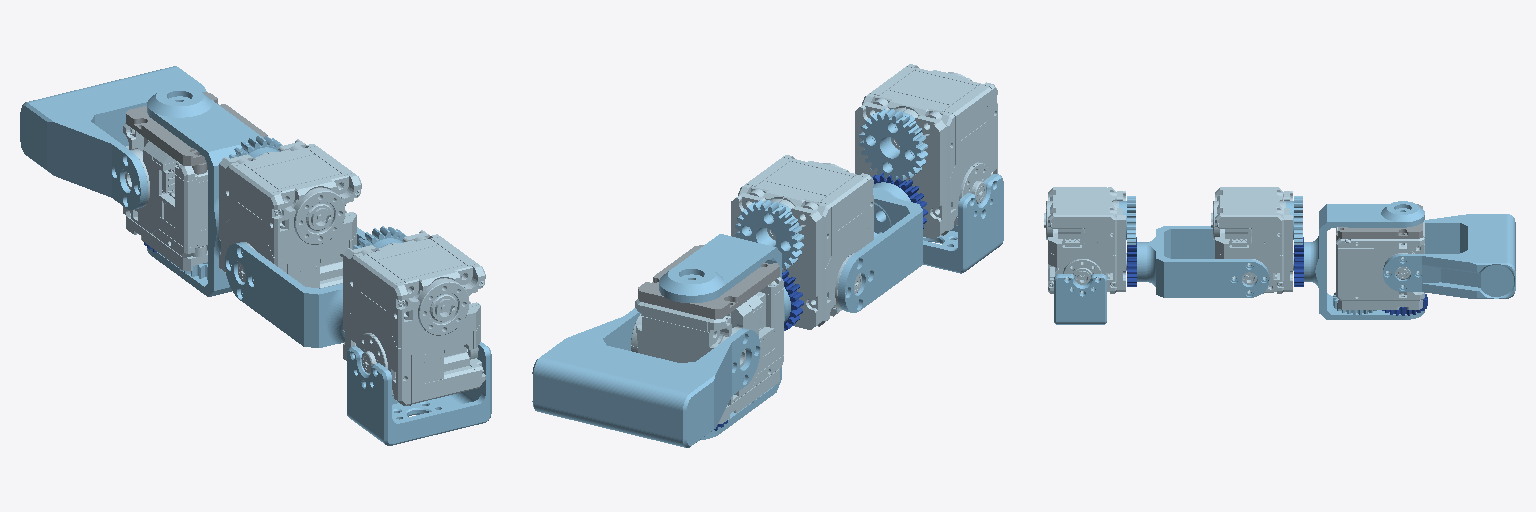
The robot description file, URDF, robot "left_arm_hand":
<?xml version="1.0" ?><robot name="left_arm_hand">  
  <link name="sho_pitch_link">    
    <visual>      
      <origin xyz="0 0 0" rpy="0 -0 0"/>      
      <geometry>        
        <mesh filename="package:///meshes/left_sho_pitch_link_visual.stl"/>        
      </geometry>      
      <material name="sho_pitch_link_material">        
        <color rgba="0.61568627450980395466 0.81176470588235294379 0.9294117647058824927 1.0"/>        
      </material>      
    </visual>    
    <collision>      
      <origin xyz="0 0 0" rpy="0 -0 0"/>      
      <geometry>        
        <mesh filename="package:///meshes/left_sho_pitch_link_collision.stl"/>        
      </geometry>      
    </collision>    
    <inertial>      
      <origin xyz="5.8254248046275251526e-11 -5.126464256112093186e-05 0.008244078812709491888" rpy="0 0 0"/>      
      <mass value="0.0085999999999999930667"/>      
      <inertia ixx="1.227288704054578552e-06" ixy="-2.142994420544767514e-14" ixz="-8.5847198719137675016e-15" iyy="2.9107306060364611617e-06" iyz="7.4623841398182852399e-09" izz="3.0803135950773479222e-06"/>      
    </inertial>    
  </link>  

  <link name="2xl430_gears">    
    <visual>      
      <origin xyz="0 0 0" rpy="0 -0 0"/>      
      <geometry>        
        <mesh filename="package:///meshes/left_2xl430_gears_visual.stl"/>        
      </geometry>      
      <material name="2xl430_gears_material">        
        <color rgba="0.75605985687944088358 0.8580469596269301169 0.91320266199377453376 1.0"/>        
      </material>      
    </visual>    
    <collision>      
      <origin xyz="0 0 0" rpy="0 -0 0"/>      
      <geometry>        
        <mesh filename="package:///meshes/left_2xl430_gears_collision.stl"/>        
      </geometry>      
    </collision>    
    <inertial>      
      <origin xyz="-0.01159315502192694719 -0.0024238821558102449476 -0.018551095523800655712" rpy="0 0 0"/>      
      <mass value="0.11800003674524907338"/>      
      <inertia ixx="2.7511554932656489224e-05" ixy="8.9994756794952501633e-07" ixz="-2.3362914879652266661e-08" iyy="3.2796647067985424697e-05" iyz="-6.5715261571464750903e-07" izz="3.5775886684226105639e-05"/>      
    </inertial>    
  </link>  

  <link name="spur_1m_24t_drive">    
    <visual>      
      <origin xyz="0 0 0" rpy="0 -0 0"/>      
      <geometry>        
        <mesh filename="package:///meshes/left_spur_1m_24t_drive_visual.stl"/>        
      </geometry>      
      <material name="spur_1m_24t_drive_material">        
        <color rgba="0.61568627450980406568 0.81176470588235294379 0.92941176470588238168 1.0"/>        
      </material>      
    </visual>    
    <collision>      
      <origin xyz="0 0 0" rpy="0 -0 0"/>      
      <geometry>        
        <mesh filename="package:///meshes/left_spur_1m_24t_drive_collision.stl"/>        
      </geometry>      
    </collision>    
    <inertial>      
      <origin xyz="-7.7589486935297973933e-15 -1.2117261756637246574e-16 0.0047949116178401416863" rpy="0 0 0"/>      
      <mass value="0.0032000000000000001533"/>      
      <inertia ixx="1.4019331346159887702e-07" ixy="1.6002409955622246819e-15" ixz="-1.6238956637125511228e-36" iyy="1.4019331260388786185e-07" iyz="2.7687586474031122229e-36" izz="2.3838919844264060647e-07"/>      
    </inertial>    
  </link>  

  <joint name="left_sho_yaw_drive" type="revolute">    
    <origin xyz="-0.024000000716141011575 -0.01900000015245061416 -0.019000000152443286688" rpy="1.5707963267948328312 -1.2486577482345307449e-15 8.257939689134084871e-14"/>    
    <parent link="2xl430_gears"/>    
    <child link="spur_1m_24t_drive"/>    
    <axis xyz="0 0 1"/>    
    <limit effort="1" velocity="20" lower="-2.6179938779914944114" upper="2.6179938779914944114"/>    
    <joint_properties friction="0.0"/>    
  </joint>  

  <link name="spur_1m_24t_driven">    
    <visual>      
      <origin xyz="0 0 0" rpy="0 -0 0"/>      
      <geometry>        
        <mesh filename="package:///meshes/left_spur_1m_24t_driven_visual.stl"/>        
      </geometry>      
      <material name="spur_1m_24t_driven_material">        
        <color rgba="0.23137254901960788156 0.38039215686274502337 0.7058823529411765163 1.0"/>        
      </material>      
    </visual>    
    <collision>      
      <origin xyz="0 0 0" rpy="0 -0 0"/>      
      <geometry>        
        <mesh filename="package:///meshes/left_spur_1m_24t_driven_collision.stl"/>        
      </geometry>      
    </collision>    
    <inertial>      
      <origin xyz="2.4368008297630226887e-18 -5.8053882331981886161e-15 -0.00097054817521927832808" rpy="0 0 0"/>      
      <mass value="0.0026999999999999997093"/>      
      <inertia ixx="1.2036234079571063062e-07" ixy="5.6376054914688019889e-37" ixz="-8.0895196499276282042e-37" iyy="1.203623407957104718e-07" iyz="-2.2046503577944615347e-37" izz="2.2847261745924530022e-07"/>      
    </inertial>    
  </link>  

  <link name="sho_yaw_link">    
    <visual>      
      <origin xyz="0 0 0" rpy="0 -0 0"/>      
      <geometry>        
        <mesh filename="package:///meshes/left_sho_yaw_link_visual.stl"/>        
      </geometry>      
      <material name="sho_yaw_link_material">        
        <color rgba="0.61568627450980395466 0.81176470588235294379 0.92941176470588238168 1.0"/>        
      </material>      
    </visual>    
    <collision>      
      <origin xyz="0 0 0" rpy="0 -0 0"/>      
      <geometry>        
        <mesh filename="package:///meshes/left_sho_yaw_link_collision.stl"/>        
      </geometry>      
    </collision>    
    <inertial>      
      <origin xyz="-1.2817564279971509767e-18 2.3540653012769734895e-18 -0.024303257848520151696" rpy="0 0 0"/>      
      <mass value="0.014500000000000011144"/>      
      <inertia ixx="9.0846670053041365841e-06" ixy="3.622409280640416356e-13" ixz="7.0099077853007871479e-43" iyy="5.6910950712097525028e-06" iyz="3.7895817404622178758e-36" izz="4.4819609845548975929e-06"/>      
    </inertial>    
  </link>  

  <link name="2xl430_gears_2">    
    <visual>      
      <origin xyz="0 0 0" rpy="0 -0 0"/>      
      <geometry>        
        <mesh filename="package:///meshes/left_2xl430_gears_2_visual.stl"/>        
      </geometry>      
      <material name="2xl430_gears_2_material">        
        <color rgba="0.75605985687944088358 0.8580469596269301169 0.91320266199377453376 1.0"/>        
      </material>      
    </visual>    
    <collision>      
      <origin xyz="0 0 0" rpy="0 -0 0"/>      
      <geometry>        
        <mesh filename="package:///meshes/left_2xl430_gears_2_collision.stl"/>        
      </geometry>      
    </collision>    
    <inertial>      
      <origin xyz="-0.011593155021923011103 -0.0024238821558094265918 -0.018551095523809998933" rpy="0 0 0"/>      
      <mass value="0.11800003674524907338"/>      
      <inertia ixx="2.7511554932656821261e-05" ixy="8.9994756795314872916e-07" ixz="-2.3362914881072535773e-08" iyy="3.2796647067987166196e-05" iyz="-6.5715261571836799537e-07" izz="3.5775886684226451229e-05"/>      
    </inertial>    
  </link>  

  <link name="spur_1m_24t_drive_2">    
    <visual>      
      <origin xyz="0 0 0" rpy="0 -0 0"/>      
      <geometry>        
        <mesh filename="package:///meshes/left_spur_1m_24t_drive_2_visual.stl"/>        
      </geometry>      
      <material name="spur_1m_24t_drive_2_material">        
        <color rgba="0.61568627450980406568 0.81176470588235294379 0.92941176470588238168 1.0"/>        
      </material>      
    </visual>    
    <collision>      
      <origin xyz="0 0 0" rpy="0 -0 0"/>      
      <geometry>        
        <mesh filename="package:///meshes/left_spur_1m_24t_drive_2_collision.stl"/>        
      </geometry>      
    </collision>    
    <inertial>      
      <origin xyz="-7.7520097996258901649e-15 -1.2117261754052326881e-16 0.0047949116178401382168" rpy="0 0 0"/>      
      <mass value="0.0032000000000000001533"/>      
      <inertia ixx="1.4019331346159887702e-07" ixy="1.6002410021513630837e-15" ixz="-1.7607335968947653028e-37" iyy="1.4019331260388786185e-07" iyz="-1.8747184623252096922e-36" izz="2.3838919844264060647e-07"/>      
    </inertial>    
  </link>  

  <joint name="left_elbow_yaw_drive" type="revolute">    
    <origin xyz="-0.024000000716137528251 -0.0190000001524475437 -0.019000000152459547986" rpy="1.570796326795050879 -2.46739603138074785e-13 -6.062193916416980129e-14"/>    
    <parent link="2xl430_gears_2"/>    
    <child link="spur_1m_24t_drive_2"/>    
    <axis xyz="0 0 1"/>    
    <limit effort="1" velocity="20" lower="-2.6179938779914944114" upper="2.6179938779914944114"/>    
    <joint_properties friction="0.0"/>    
  </joint>  

  <link name="spur_1m_24t_driven_2">    
    <visual>      
      <origin xyz="0 0 0" rpy="0 -0 0"/>      
      <geometry>        
        <mesh filename="package:///meshes/left_spur_1m_24t_driven_2_visual.stl"/>        
      </geometry>      
      <material name="spur_1m_24t_driven_2_material">        
        <color rgba="0.23137254901960788156 0.38039215686274502337 0.7058823529411765163 1.0"/>        
      </material>      
    </visual>    
    <collision>      
      <origin xyz="0 0 0" rpy="0 -0 0"/>      
      <geometry>        
        <mesh filename="package:///meshes/left_spur_1m_24t_driven_2_collision.stl"/>        
      </geometry>      
    </collision>    
    <inertial>      
      <origin xyz="2.4368008297630893259e-18 -5.8056270393240221048e-15 -0.00097054817521927117235" rpy="0 0 0"/>      
      <mass value="0.0026999999999999997093"/>      
      <inertia ixx="1.2036234079571063062e-07" ixy="1.5191863218340771746e-36" ixz="2.768753003542779552e-37" iyy="1.203623407957104718e-07" iyz="-1.1902129569651006368e-37" izz="2.2847261745924530022e-07"/>      
    </inertial>    
  </link>  

  <link name="elb_yaw_link">    
    <visual>      
      <origin xyz="0 0 0" rpy="0 -0 0"/>      
      <geometry>        
        <mesh filename="package:///meshes/left_elb_yaw_link_visual.stl"/>        
      </geometry>      
      <material name="elb_yaw_link_material">        
        <color rgba="0.61568627450980395466 0.81176470588235294379 0.9294117647058824927 1.0"/>        
      </material>      
    </visual>    
    <collision>      
      <origin xyz="0 0 0" rpy="0 -0 0"/>      
      <geometry>        
        <mesh filename="package:///meshes/left_elb_yaw_link_collision.stl"/>        
      </geometry>      
    </collision>    
    <inertial>      
      <origin xyz="5.3127688027307578707e-08 0.0019833638641961670243 -0.023416643551549955887" rpy="0 0 0"/>      
      <mass value="0.017499999999999998196"/>      
      <inertia ixx="1.4134344903109192999e-05" ixy="1.6945783921971547142e-12" ixz="-1.1286398721902334746e-11" iyy="6.6435900776211298052e-06" iyz="1.0545227077253051227e-06" izz="8.9925290757998959832e-06"/>      
    </inertial>    
  </link>  

  <link name="spur_1m_24t_driven_3">    
    <visual>      
      <origin xyz="0 0 0" rpy="0 -0 0"/>      
      <geometry>        
        <mesh filename="package:///meshes/left_spur_1m_24t_driven_3_visual.stl"/>        
      </geometry>      
      <material name="spur_1m_24t_driven_3_material">        
        <color rgba="0.23137254901960788156 0.38039215686274502337 0.7058823529411765163 1.0"/>        
      </material>      
    </visual>    
    <collision>      
      <origin xyz="0 0 0" rpy="0 -0 0"/>      
      <geometry>        
        <mesh filename="package:///meshes/left_spur_1m_24t_driven_3_collision.stl"/>        
      </geometry>      
    </collision>    
    <inertial>      
      <origin xyz="2.436800829762470332e-18 -5.8053882331981894049e-15 -0.0025705481752192754774" rpy="0 0 0"/>      
      <mass value="0.0026999999999999997093"/>      
      <inertia ixx="1.2036234079571068356e-07" ixy="3.6684824624552442017e-37" ixz="-4.4245178596109447273e-36" iyy="1.203623407957104718e-07" iyz="7.8837735415592731373e-38" izz="2.284726174592454061e-07"/>      
    </inertial>    
  </link>  

  <link name="2xl430_gears_3">    
    <visual>      
      <origin xyz="0 0 0" rpy="0 -0 0"/>      
      <geometry>        
        <mesh filename="package:///meshes/left_2xl430_gears_3_visual.stl"/>        
      </geometry>      
      <material name="2xl430_gears_3_material">        
        <color rgba="0.75605985687944088358 0.8580469596269301169 0.91320266199377453376 1.0"/>        
      </material>      
    </visual>    
    <collision>      
      <origin xyz="0 0 0" rpy="0 -0 0"/>      
      <geometry>        
        <mesh filename="package:///meshes/left_2xl430_gears_3_collision.stl"/>        
      </geometry>      
    </collision>    
    <inertial>      
      <origin xyz="0.00044890447620269448856 0.011593154663842732133 -0.024576117996641427127" rpy="0 0 0"/>      
      <mass value="0.11800003674524907338"/>      
      <inertia ixx="3.5775886684225577091e-05" ixy="2.3362914879862866845e-08" ixz="6.5715261571689161694e-07" iyy="2.7511554932657559874e-05" iyz="8.9994756795285110296e-07" izz="3.2796647067985024897e-05"/>      
    </inertial>    
  </link>  

  <link name="spur_1m_24t_drive_3">    
    <visual>      
      <origin xyz="0 0 0" rpy="0 -0 0"/>      
      <geometry>        
        <mesh filename="package:///meshes/left_spur_1m_24t_drive_3_visual.stl"/>        
      </geometry>      
      <material name="spur_1m_24t_drive_3_material">        
        <color rgba="0.61568627450980406568 0.81176470588235294379 0.92941176470588238168 1.0"/>        
      </material>      
    </visual>    
    <collision>      
      <origin xyz="0 0 0" rpy="0 -0 0"/>      
      <geometry>        
        <mesh filename="package:///meshes/left_spur_1m_24t_drive_3_collision.stl"/>        
      </geometry>      
    </collision>    
    <inertial>      
      <origin xyz="-7.7520097996258901649e-15 -1.2117261756637226852e-16 0.004794911617840143421" rpy="0 0 0"/>      
      <mass value="0.0032000000000000001533"/>      
      <inertia ixx="1.4019331346159887702e-07" ixy="1.6002409948077748754e-15" ixz="-1.8672824434712963777e-36" iyy="1.4019331260388780891e-07" iyz="-6.0506048324817462433e-37" izz="2.3838919844264060647e-07"/>      
    </inertial>    
  </link>  

  <joint name="left_wrist_pitch_drive" type="revolute">    
    <origin xyz="-1.5244060454932558359e-10 0.024000000358057327343 -0.0080000000000068835493" rpy="4.57965832526558921e-14 -2.10309717636365493e-13 -1.5707963267949176522"/>    
    <parent link="2xl430_gears_3"/>    
    <child link="spur_1m_24t_drive_3"/>    
    <axis xyz="0 0 1"/>    
    <limit effort="1" velocity="20" lower="-1.9198621771937625091" upper="1.3962634015954635824"/>    
    <joint_properties friction="0.0"/>    
  </joint>  

  <link name="hand">    
    <visual>      
      <origin xyz="0 0 0" rpy="0 -0 0"/>      
      <geometry>        
        <mesh filename="package:///meshes/left_hand_visual.stl"/>        
      </geometry>      
      <material name="hand_material">        
        <color rgba="0.61568627450980395466 0.81176470588235294379 0.92941176470588238168 1.0"/>        
      </material>      
    </visual>    
    <collision>      
      <origin xyz="0 0 0" rpy="0 -0 0"/>      
      <geometry>        
        <mesh filename="package:///meshes/left_hand_collision.stl"/>        
      </geometry>      
    </collision>    
    <inertial>      
      <origin xyz="-2.489950859939713396e-10 -0.040594531666389030433 -0.019479063914252029571" rpy="0 0 0"/>      
      <mass value="0.017000000000001441042"/>      
      <inertia ixx="9.2187594185322302979e-06" ixy="1.5922041033334626753e-15" ixz="1.053951146944666362e-13" iyy="6.6718567758212670815e-06" iyz="2.1533596775200582581e-08" izz="3.7788698411876594226e-06"/>      
    </inertial>    
  </link>  

  <joint name="left_wrist_roll" type="revolute">    
    <origin xyz="0.019000000000007045975 -3.5808098153289336096e-10 -0.027000000152448057344" rpy="-8.1915604995110887341e-29 1.5707963267945390662 0"/>    
    <parent link="2xl430_gears_3"/>    
    <child link="hand"/>    
    <axis xyz="0 0 1"/>    
    <limit effort="1" velocity="20" lower="-1.9198621771937625091" upper="1.3962634015954635824"/>    
    <joint_properties friction="0.0"/>    
  </joint>  

  <link name="wrist_bearing_plate">    
    <visual>      
      <origin xyz="0 0 0" rpy="0 -0 0"/>      
      <geometry>        
        <mesh filename="package:///meshes/left_wrist_bearing_plate_visual.stl"/>        
      </geometry>      
      <material name="wrist_bearing_plate_material">        
        <color rgba="0.64496316278892629192 0.69011804996940528945 0.71706771073555886087 1.0"/>        
      </material>      
    </visual>    
    <collision>      
      <origin xyz="0 0 0" rpy="0 -0 0"/>      
      <geometry>        
        <mesh filename="package:///meshes/left_wrist_bearing_plate_collision.stl"/>        
      </geometry>      
    </collision>    
    <inertial>      
      <origin xyz="-0.0075835583121499567164 -0.015499999999999982542 -0.001838632370590335529" rpy="0 0 0"/>      
      <mass value="0.0049000367468305539714"/>      
      <inertia ixx="4.9707430109150118544e-07" ixy="9.811974679277343203e-23" ixz="1.8100904820814435603e-08" iyy="7.1268523603538553059e-07" iyz="-3.2526978161450607496e-22" izz="1.1919657811600109234e-06"/>      
    </inertial>    
  </link>  

  <joint name="left_wrist_pitch_fixed" type="fixed">    
    <origin xyz="0.015500000000007821757 -1.8096635301390051609e-14 -0.044999999999998901989" rpy="8.1212814267639654023e-14 -2.8213542612434270497e-13 -1.570796326794906328"/>    
    <parent link="2xl430_gears_3"/>    
    <child link="wrist_bearing_plate"/>    
    <axis xyz="0 0 1"/>    
    <limit effort="1" velocity="20"/>    
    <joint_properties friction="0.0"/>    
  </joint>  

  <joint name="left_wrist_pitch_driven" type="revolute">    
    <origin xyz="0 -1.5777218104420236108e-30 -0.0015999999999999953062" rpy="-2.8253475236412191385e-15 -3.552713678800508818e-15 -1.570796326794896558"/>    
    <parent link="spur_1m_24t_driven_3"/>    
    <child link="2xl430_gears_3"/>    
    <axis xyz="0 0 1"/>    
    <limit effort="1" velocity="20" lower="-1.3962634015954635824" upper="1.9198621771937625091"/>    
    <joint_properties friction="0.0"/>    
  </joint>  

  <joint name="left_wrist_roll_fixed" type="fixed">    
    <origin xyz="-7.8886090522101180541e-30 -0.025299999999999999573 -0.052000000000000032307" rpy="1.5707963267948985564 -1.5707963267948945596 0"/>    
    <parent link="elb_yaw_link"/>    
    <child link="spur_1m_24t_driven_3"/>    
    <axis xyz="0 0 1"/>    
    <limit effort="1" velocity="20"/>    
    <joint_properties friction="0.0"/>    
  </joint>  

  <joint name="left_elbow_yaw_fixed" type="fixed">    
    <origin xyz="1.5777218104420236108e-30 0 0.0015999999999999903189" rpy="-3.141592653589793116 -1.5029469787693842406e-27 -1.0914409670812147614e-28"/>    
    <parent link="spur_1m_24t_driven_2"/>    
    <child link="elb_yaw_link"/>    
    <axis xyz="0 0 1"/>    
    <limit effort="1" velocity="20"/>    
    <joint_properties friction="0.0"/>    
  </joint>  

  <joint name="left_elbow_yaw_driven" type="revolute">    
    <origin xyz="-3.5806395001780622067e-10 -0.027000000152452921509 -0.019000000000006608825" rpy="1.5707963267949589525 1.5707963267947417929 0"/>    
    <parent link="2xl430_gears_2"/>    
    <child link="spur_1m_24t_driven_2"/>    
    <axis xyz="0 0 1"/>    
    <limit effort="1" velocity="20" lower="-2.6179938779914944114" upper="2.6179938779914944114"/>    
    <joint_properties friction="0.0"/>    
  </joint>  

  <joint name="left_elbow_roll" type="revolute">    
    <origin xyz="3.4694469519536141888e-18 -0.018999999999999996059 -0.058999999999999983014" rpy="1.570796326794896336 -2.4424906541778151013e-14 3.0649833342774549336e-16"/>    
    <parent link="sho_yaw_link"/>    
    <child link="2xl430_gears_2"/>    
    <axis xyz="0 0 1"/>    
    <limit effort="1" velocity="20" lower="-1.9198621771937625091" upper="2.4434609527920612138"/>    
    <joint_properties friction="0.0"/>    
  </joint>  

  <joint name="left_sho_yaw_fixed" type="fixed">    
    <origin xyz="3.4694469519536141888e-18 3.9443045261050590271e-31 0.0016000000000000007272" rpy="3.1415926535897757965 -0 0"/>    
    <parent link="spur_1m_24t_driven"/>    
    <child link="sho_yaw_link"/>    
    <axis xyz="0 0 1"/>    
    <limit effort="1" velocity="20"/>    
    <joint_properties friction="0.0"/>    
  </joint>  

  <joint name="left_sho_yaw_driven" type="revolute">    
    <origin xyz="-3.5807090625894488767e-10 -0.027000000152451124336 -0.018999999999999364619" rpy="1.5707963267948492625 7.961811706183572413e-14 1.2023715356687380766e-13"/>    
    <parent link="2xl430_gears"/>    
    <child link="spur_1m_24t_driven"/>    
    <axis xyz="0 0 1"/>    
    <limit effort="1" velocity="20" lower="-2.6179938779914944114" upper="2.6179938779914944114"/>    
    <joint_properties friction="0.0"/>    
  </joint>  

  <joint name="left_sho_roll" type="revolute">    
    <origin xyz="-0.018999999999999999528 0.0010000000000000034903 0.027000000000000006634" rpy="-3.141592653589793116 1.570796326794896336 0"/>    
    <parent link="sho_pitch_link"/>    
    <child link="2xl430_gears"/>    
    <axis xyz="0 0 1"/>    
    <limit effort="1" velocity="20" lower="-1.570796326794896558" upper="0.34906585039886589561"/>    
    <joint_properties friction="0.0"/>    
  </joint>  


</robot>

--- Facts derived from the render (not from the file) ---
3 views of the same robot in one strip: view 1: azimuth 30°, elevation 25°; view 2: azimuth 150°, elevation 25°; view 3: azimuth 270°, elevation 25° (orthographic).
Robot: left_arm_hand — 14 links, 13 joints (9 revolute, 4 fixed); root link sho_pitch_link; default pose: every joint at zero.
Visible links, largest first — view 1: 2xl430_gears, 2xl430_gears_2, hand, 2xl430_gears_3, sho_pitch_link, elb_yaw_link, sho_yaw_link, wrist_bearing_plate, spur_1m_24t_drive, spur_1m_24t_drive_2; view 2: hand, 2xl430_gears, 2xl430_gears_2, 2xl430_gears_3, sho_yaw_link, elb_yaw_link, sho_pitch_link, spur_1m_24t_drive, wrist_bearing_plate, spur_1m_24t_drive_2, spur_1m_24t_driven_2, spur_1m_24t_driven; view 3: hand, 2xl430_gears, sho_yaw_link, 2xl430_gears_2, 2xl430_gears_3, elb_yaw_link, sho_pitch_link, wrist_bearing_plate, spur_1m_24t_drive, spur_1m_24t_drive_2.
Boxes of the visible links, x1,y1,x2,y2 form: 2xl430_gears: [343, 230, 485, 405]; 2xl430_gears_2: [219, 139, 361, 288]; hand: [20, 66, 206, 209]; 2xl430_gears_3: [123, 123, 207, 271]; sho_pitch_link: [347, 342, 491, 445]; elb_yaw_link: [147, 86, 262, 296]; sho_yaw_link: [225, 227, 365, 347]; wrist_bearing_plate: [126, 92, 267, 174]; spur_1m_24t_drive: [353, 226, 406, 248]; spur_1m_24t_drive_2: [229, 136, 282, 158]; hand: [532, 308, 760, 447]; 2xl430_gears: [855, 64, 997, 239]; 2xl430_gears_2: [731, 155, 873, 329]; 2xl430_gears_3: [631, 277, 783, 423]; sho_yaw_link: [838, 182, 922, 312]; elb_yaw_link: [659, 234, 790, 440]; sho_pitch_link: [923, 174, 1003, 273]; spur_1m_24t_drive: [859, 109, 927, 181]; wrist_bearing_plate: [638, 245, 779, 319]; spur_1m_24t_drive_2: [735, 200, 803, 269]; spur_1m_24t_driven_2: [782, 270, 803, 330]; spur_1m_24t_driven: [872, 173, 927, 228]; hand: [1383, 214, 1515, 298]; 2xl430_gears: [1044, 187, 1126, 293]; sho_yaw_link: [1137, 226, 1269, 297]; 2xl430_gears_2: [1211, 187, 1293, 293]; 2xl430_gears_3: [1336, 220, 1424, 309]; elb_yaw_link: [1304, 201, 1424, 319]; sho_pitch_link: [1054, 274, 1106, 324]; wrist_bearing_plate: [1336, 204, 1422, 240]; spur_1m_24t_drive: [1119, 196, 1135, 244]; spur_1m_24t_drive_2: [1286, 196, 1302, 244].
Bounding box of the posed robot: 0.063 × 0.2472 × 0.0652 m (x, y, z).
14 mesh visuals loaded from 14 distinct referenced files (14 binary STL).
